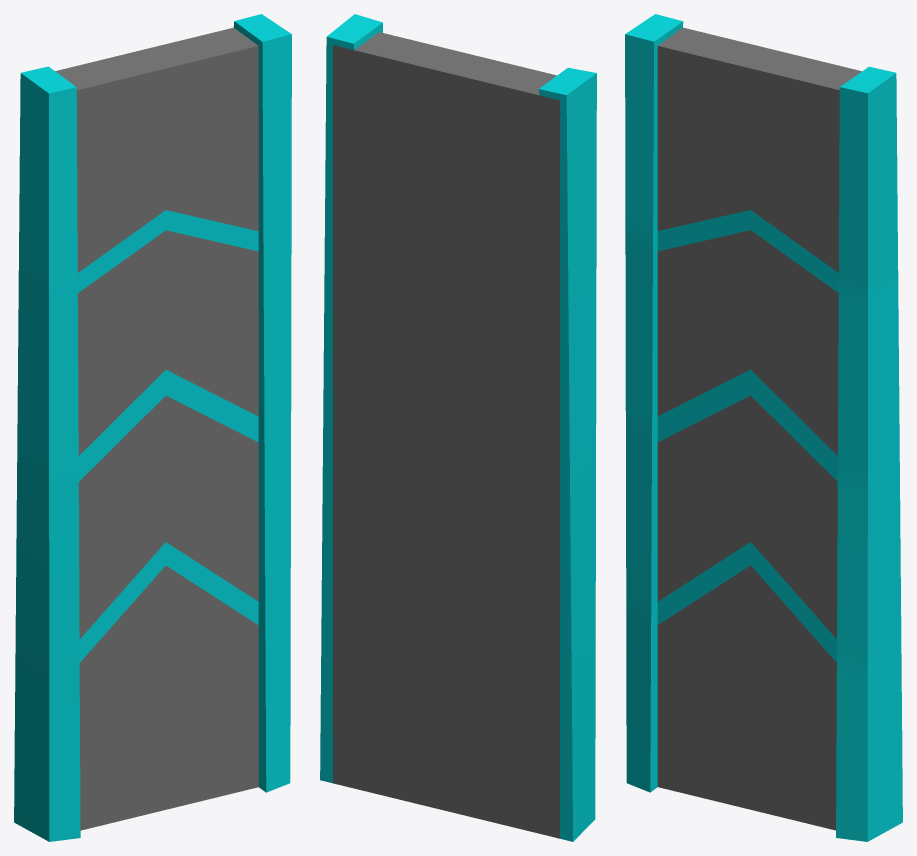
The model's file is Wall Climb.fbx.
3 renders of one model, left to right at view 1: azimuth 30°, elevation 25°; view 2: azimuth 150°, elevation 25°; view 3: azimuth 330°, elevation 25°, orthographic.
Parts seen in each view (by area): view 1: pCube2; view 2: pCube2; view 3: pCube2.
Boxes of the visible parts, x1,y1,x2,y2 form: pCube2: (14,14,291,841); pCube2: (320,14,596,841); pCube2: (625,14,902,841).
Bounding box in the file's own units: 4.36 × 12.27 × 0.9667.
